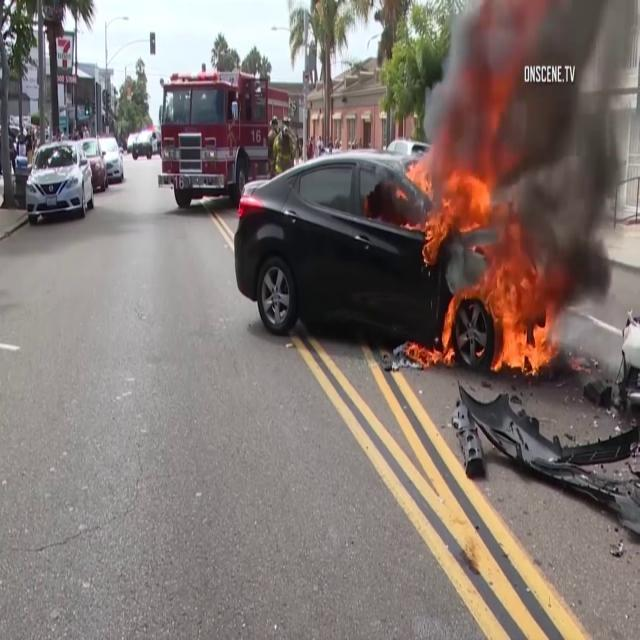Fire: (422, 128, 560, 372)
Smoke: (454, 1, 640, 258)
